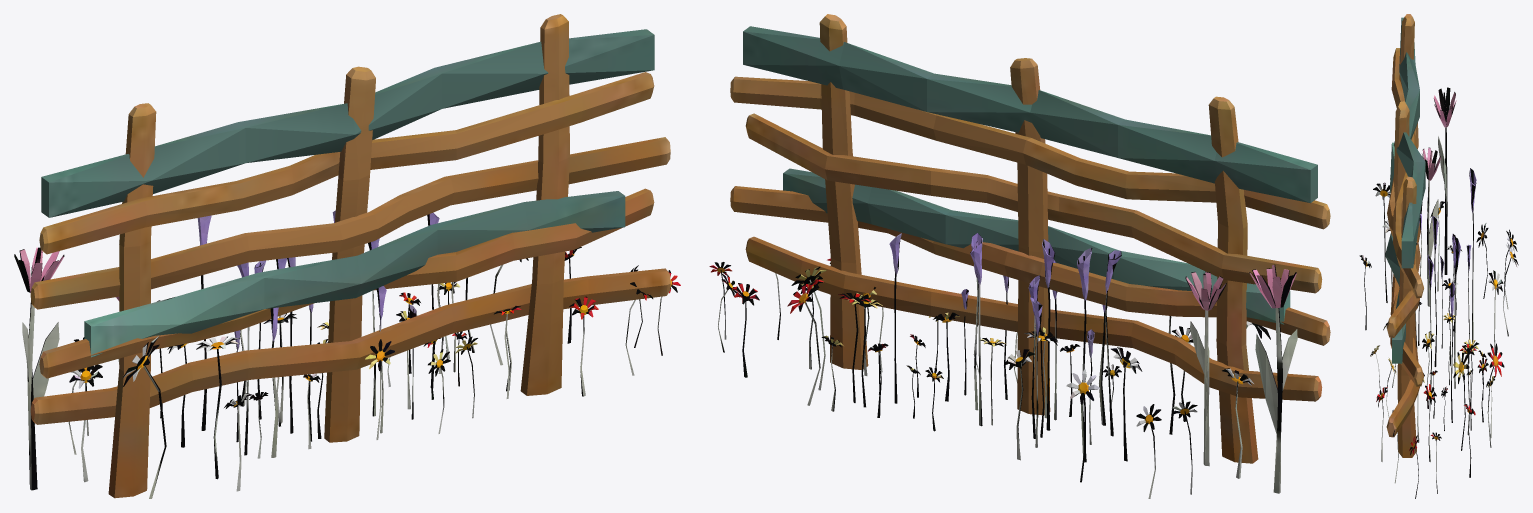
The model's file is fence_flower_lattice.glb.
3 renders of one model, left to right at view 1: azimuth 30°, elevation 25°; view 2: azimuth 150°, elevation 25°; view 3: azimuth 270°, elevation 25°, orthographic. The views are drawn at different scales.
Visible parts, largest first — view 1: fence_flower_lattice; view 2: fence_flower_lattice; view 3: fence_flower_lattice.
Boxes of the visible parts, x1,y1,x2,y2 form: fence_flower_lattice: [14, 14, 680, 498]; fence_flower_lattice: [709, 14, 1330, 498]; fence_flower_lattice: [1359, 14, 1518, 498].
Bounding box in the file's own units: 1.07 × 0.6 × 0.3.
Materials: 1 (1 with a texture image).
